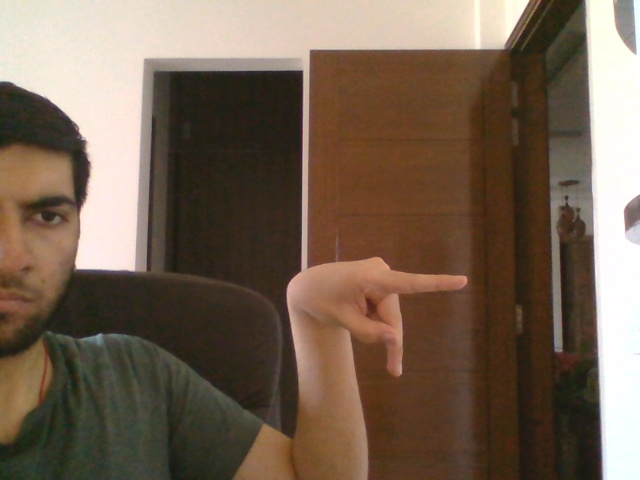LetterP: (285, 255, 468, 380)
